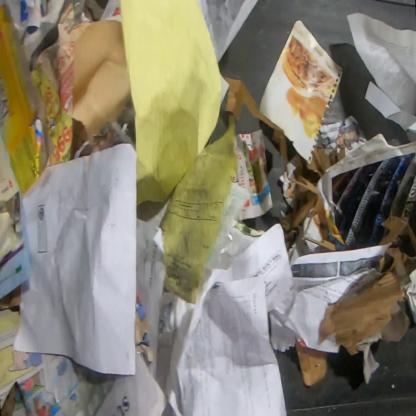cardboard: (318, 217, 415, 357), (0, 0, 55, 197), (224, 76, 288, 172), (281, 146, 331, 230), (295, 345, 328, 387)
rigid_plastic: (134, 292, 154, 368)
